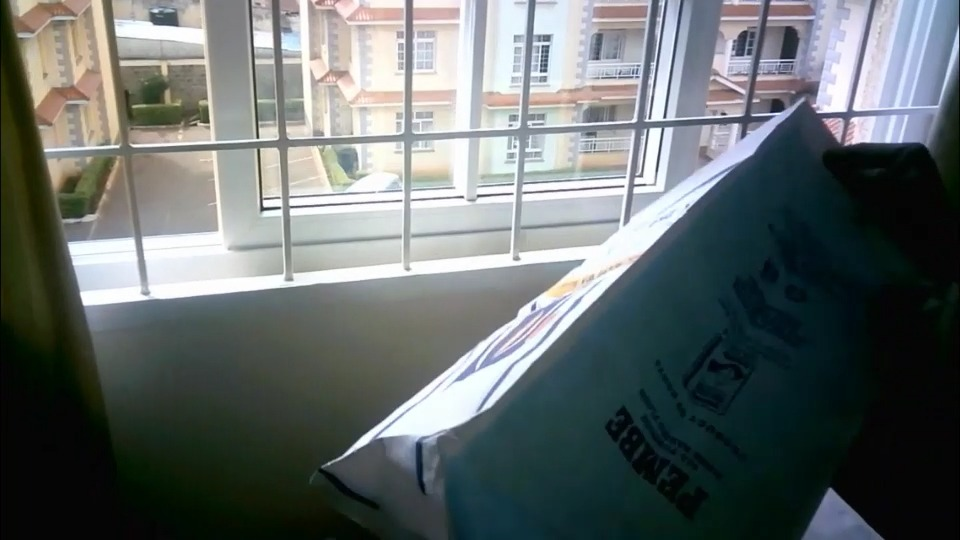wheat_flour_blue_label: (312, 102, 907, 540)
